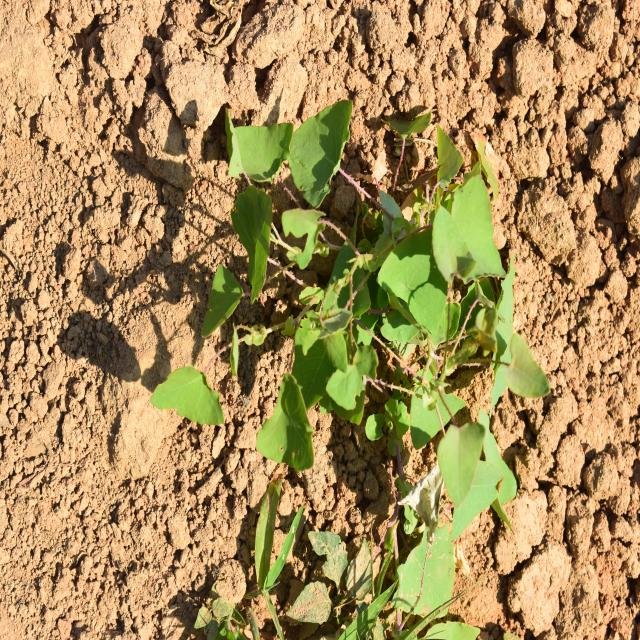Asiatic_Smartweed: (166, 97, 385, 467), (383, 192, 548, 532)
